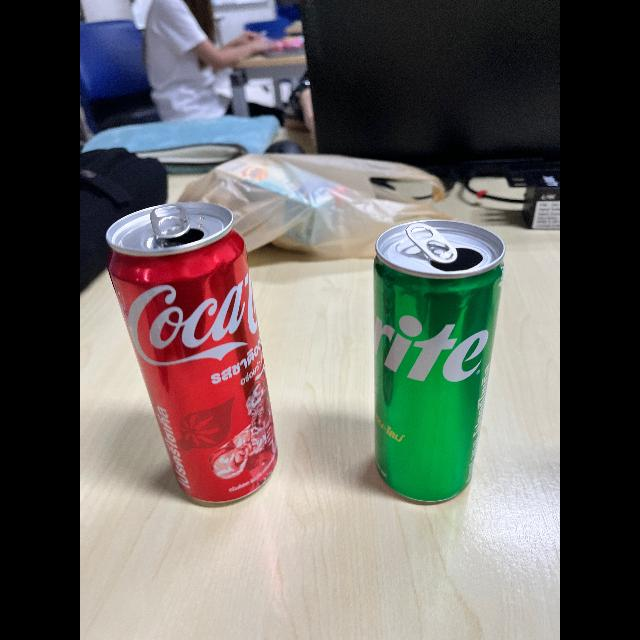can: (100, 204, 302, 506), (341, 220, 515, 512)
